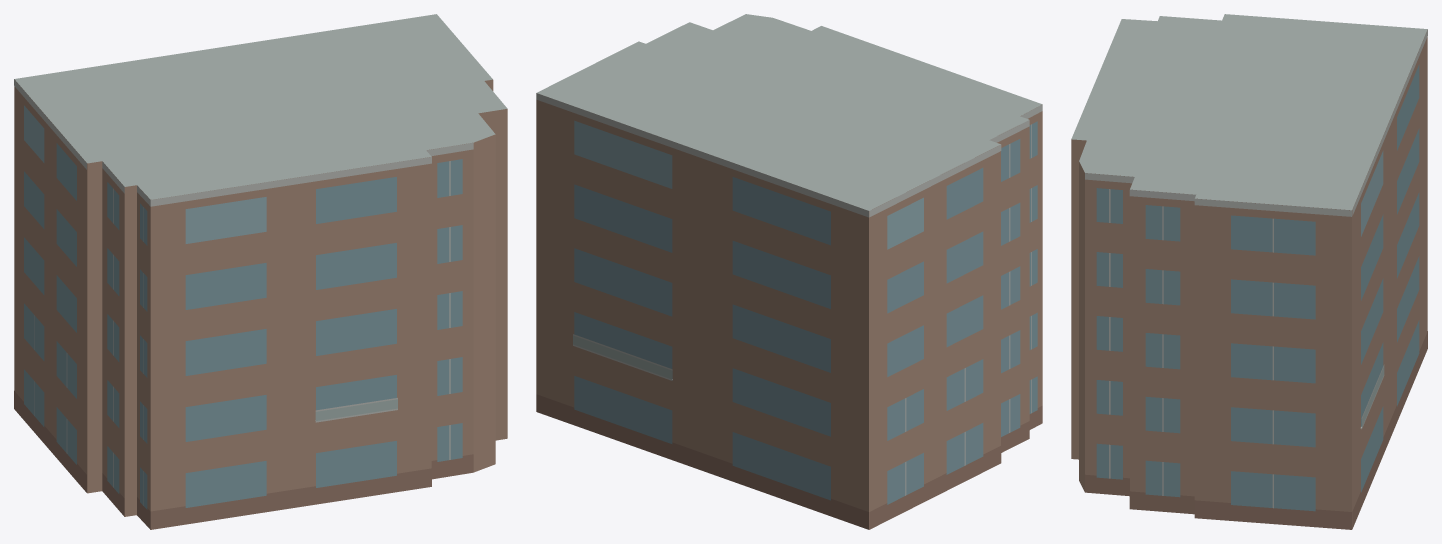
File: survey-upis-33036017.glb
3 views of the same model, side by side, from view 1: azimuth 30°, elevation 25°; view 2: azimuth 150°, elevation 25°; view 3: azimuth 270°, elevation 25° (orthographic). The views are drawn at different scales.
Parts seen in each view (by area): view 1: survey-upis-33036017.tmp; view 2: survey-upis-33036017.tmp; view 3: survey-upis-33036017.tmp.
Boxes of the visible parts, x1,y1,x2,y2 form: survey-upis-33036017.tmp: (14, 14, 507, 529); survey-upis-33036017.tmp: (536, 14, 1042, 529); survey-upis-33036017.tmp: (1071, 14, 1427, 529).
Size of the model in its own units: 15.51 by 11.77 by 11.91.
